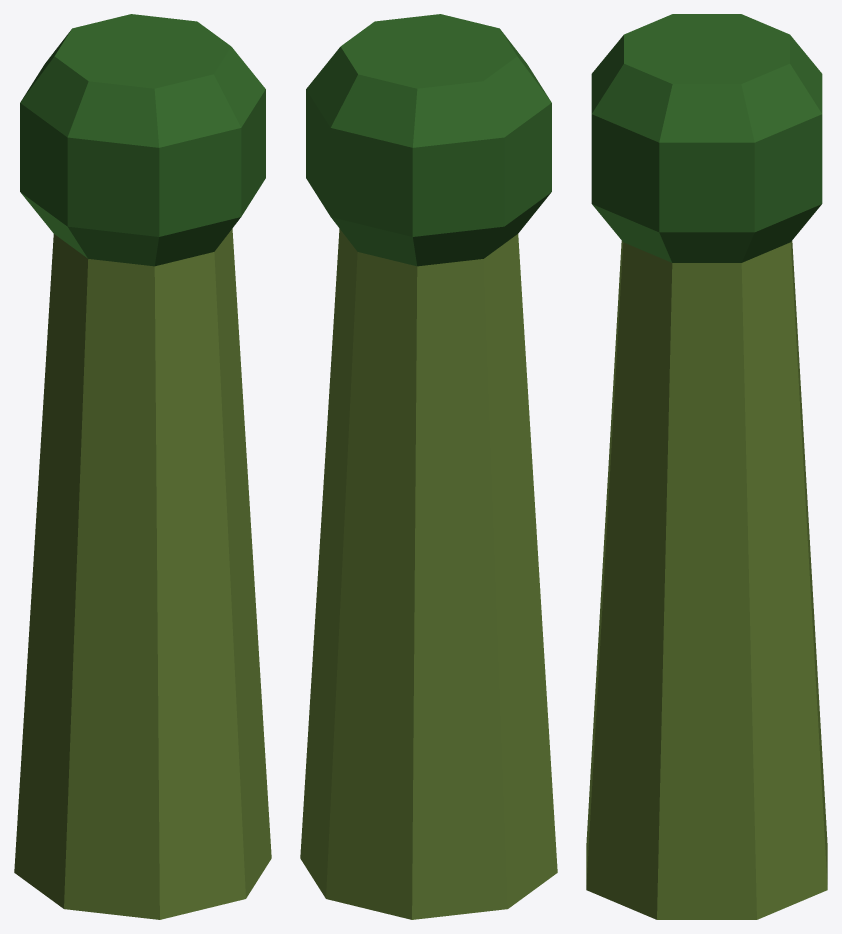
Rendered from treekin_tower.glb.
3 views of the same model, side by side, from view 1: azimuth 30°, elevation 25°; view 2: azimuth 150°, elevation 25°; view 3: azimuth 270°, elevation 25° (orthographic).
Parts seen in each view (by area): view 1: treekin_tower; view 2: treekin_tower; view 3: treekin_tower.
Boxes of the visible parts, x1,y1,x2,y2 form: treekin_tower: (14,14,271,919); treekin_tower: (300,14,557,919); treekin_tower: (586,14,827,919).
Size of the model in its own units: 0.9146 by 3.42 by 0.9146.
